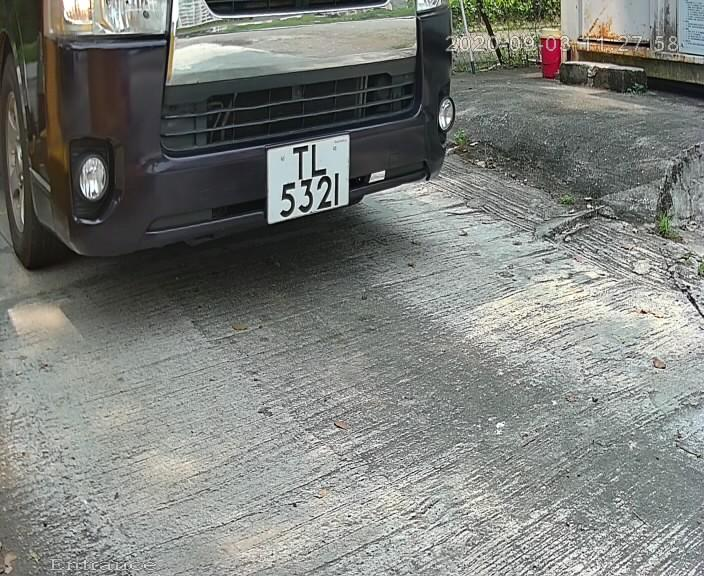License Plate: (258, 132, 362, 227)
